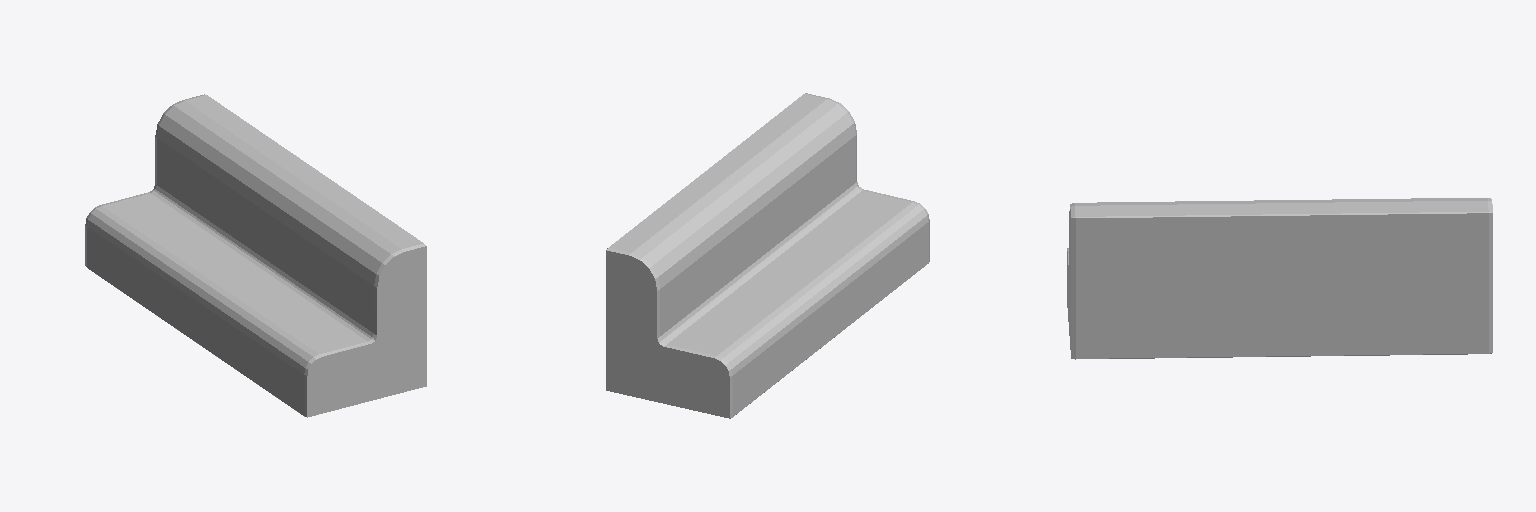
File: seat_20.obj
3 views of the same model, side by side, from view 1: azimuth 30°, elevation 25°; view 2: azimuth 150°, elevation 25°; view 3: azimuth 270°, elevation 25° (orthographic).
Visible parts, largest first — view 1: Cadeira1.019_Cube.020; view 2: Cadeira1.019_Cube.020; view 3: Cadeira1.019_Cube.020.
Part boxes in pixels (x1,y1,x2,y2): Cadeira1.019_Cube.020: (85, 94, 426, 417); Cadeira1.019_Cube.020: (606, 93, 929, 418); Cadeira1.019_Cube.020: (1067, 198, 1492, 359).
Size of the model in its own units: 1.19 by 1.2 by 3.26.